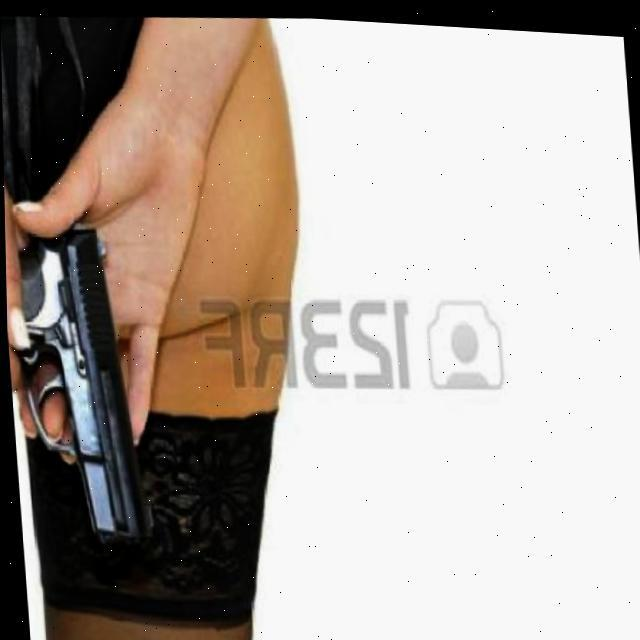gun: (4, 217, 160, 550)
